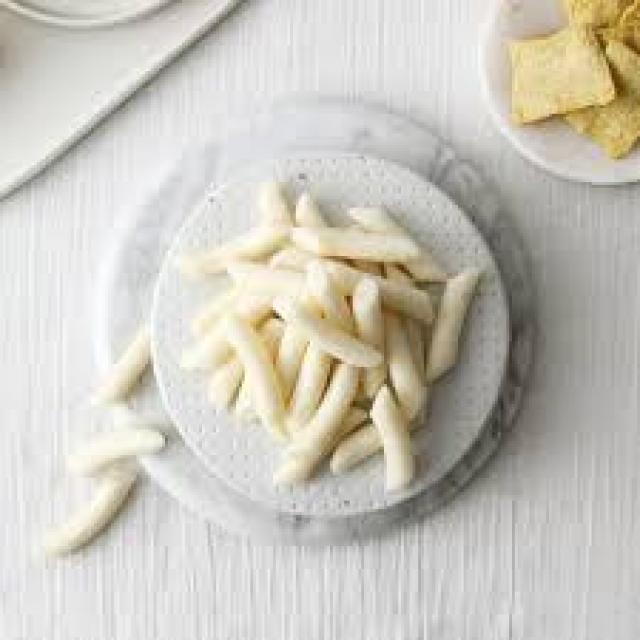rice_cake: (182, 182, 481, 494)
